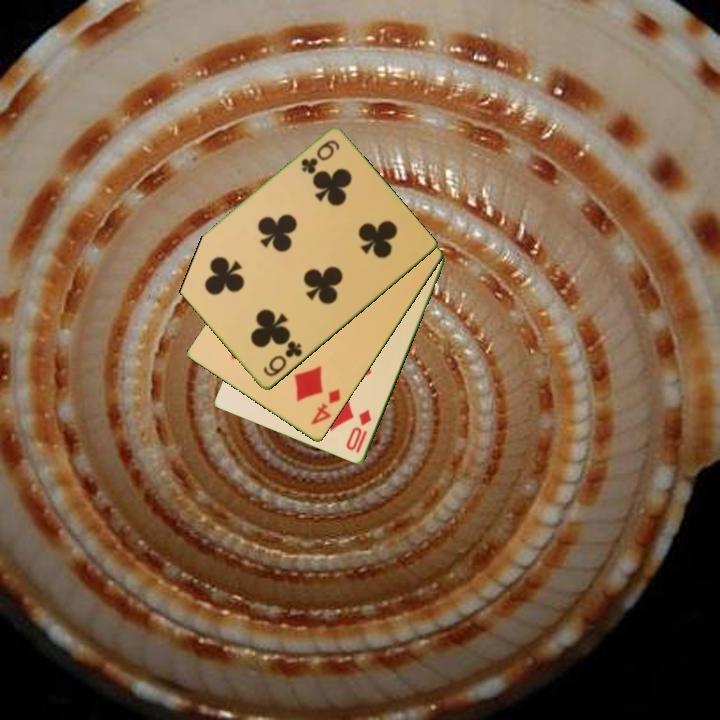10d: (342, 406, 374, 457)
4d: (307, 385, 344, 428)
6c: (260, 338, 305, 380), (297, 137, 343, 177)
